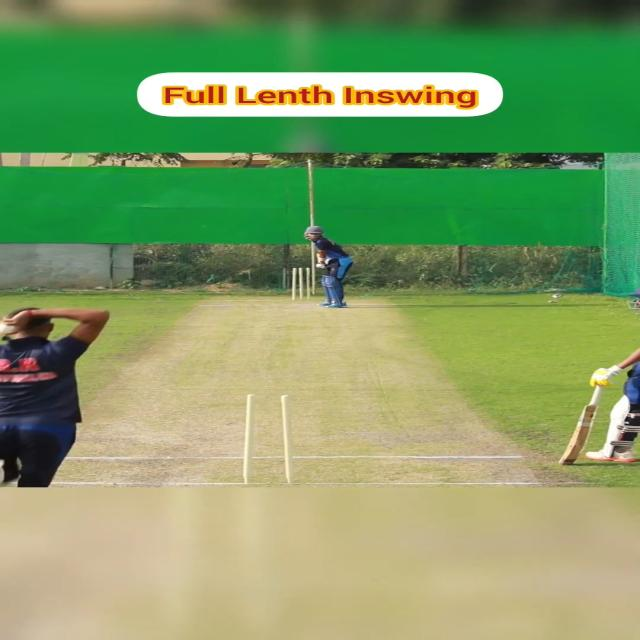stump: (242, 392, 297, 486), (290, 267, 313, 302)
